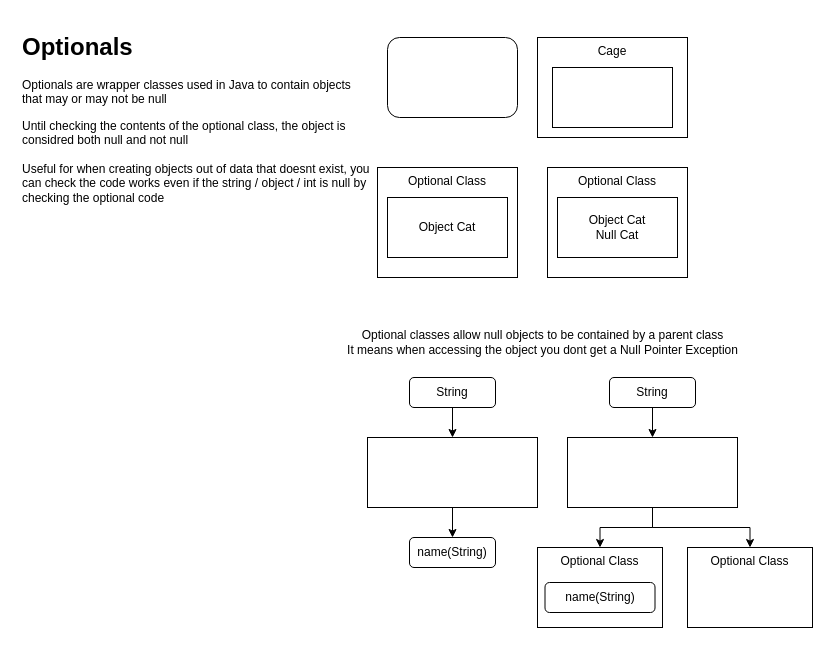
This 830x645 diagram has some shape labels left out. Each missing label, with the centre of its shape:
"Dog" goes at (x=612, y=97).
"filter method" goes at (x=452, y=472).
"filterOptional method" goes at (x=652, y=472).
"Wrapper class: An object that contains another object" goes at (x=452, y=77).
